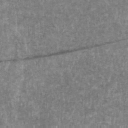finishing roll printing: (0, 38, 128, 63)
